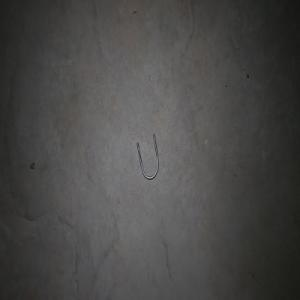ClampPart: (136, 132, 159, 180)
